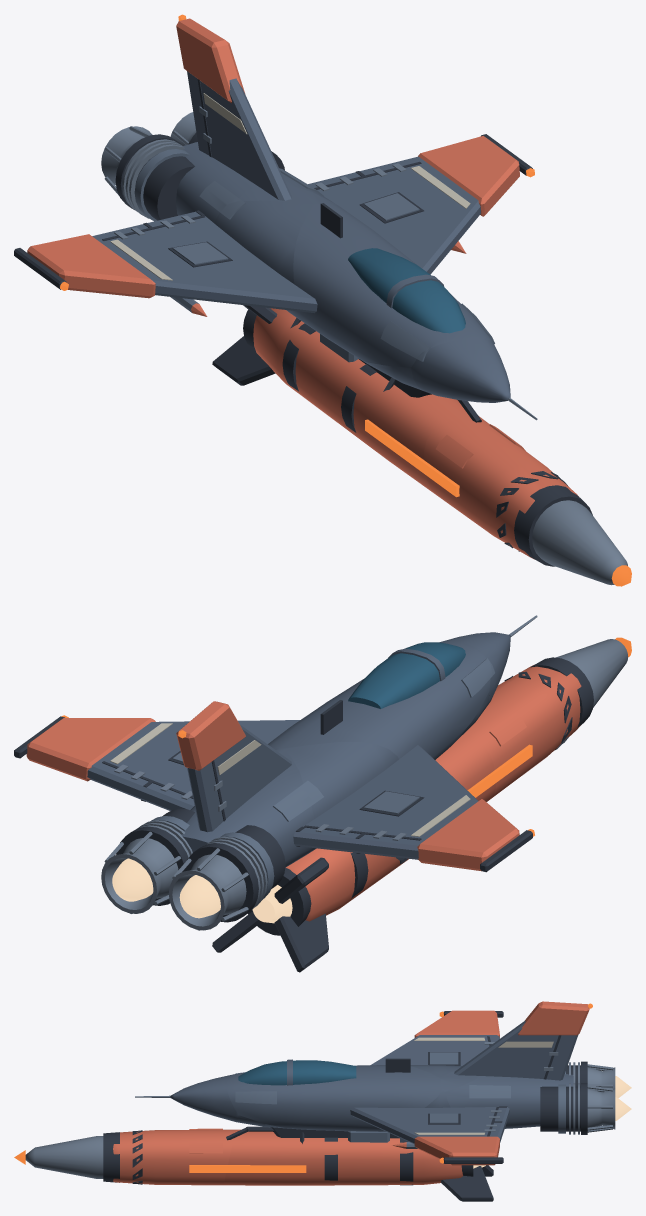
The model's file is lance_bomber_wreck.glb.
3 renders of one model, top to bottom at view 1: azimuth 30°, elevation 25°; view 2: azimuth 150°, elevation 25°; view 3: azimuth 270°, elevation 25°, orthographic. The views are drawn at different scales.
Visible parts, largest first — view 1: lance_bomber_wreck_04, lance_bomber_wreck_00, lance_bomber_wreck_02, lance_bomber_wreck_01, lance_bomber_wreck_03, lance_bomber_wreck_08, lance_bomber_wreck_07, lance_bomber_wreck_06, lance_bomber_wreck_05; view 2: lance_bomber_wreck_01, lance_bomber_wreck_04, lance_bomber_wreck_00, lance_bomber_wreck_02, lance_bomber_wreck_03, lance_bomber_wreck_06, lance_bomber_wreck_07, lance_bomber_wreck_05, lance_bomber_wreck_08; view 3: lance_bomber_wreck_00, lance_bomber_wreck_01, lance_bomber_wreck_02, lance_bomber_wreck_08, lance_bomber_wreck_06, lance_bomber_wreck_07, lance_bomber_wreck_03, lance_bomber_wreck_04, lance_bomber_wreck_05.
Part boxes in pixels (x1=…): lance_bomber_wreck_04: x1=14, y1=200, x2=313, y2=322; lance_bomber_wreck_00: x1=287, y1=203, x2=494, y2=368; lance_bomber_wreck_02: x1=411, y1=338, x2=573, y2=555; lance_bomber_wreck_01: x1=101, y1=112, x2=366, y2=223; lance_bomber_wreck_03: x1=353, y1=134, x2=534, y2=253; lance_bomber_wreck_08: x1=331, y1=353, x2=487, y2=494; lance_bomber_wreck_07: x1=176, y1=14, x2=336, y2=204; lance_bomber_wreck_06: x1=212, y1=204, x2=374, y2=422; lance_bomber_wreck_05: x1=521, y1=488, x2=631, y2=586; lance_bomber_wreck_01: x1=101, y1=776, x2=335, y2=930; lance_bomber_wreck_04: x1=284, y1=742, x2=534, y2=872; lance_bomber_wreck_00: x1=238, y1=640, x2=492, y2=759; lance_bomber_wreck_02: x1=447, y1=615, x2=587, y2=798; lance_bomber_wreck_03: x1=14, y1=715, x2=189, y2=800; lance_bomber_wreck_06: x1=212, y1=848, x2=399, y2=972; lance_bomber_wreck_07: x1=176, y1=701, x2=304, y2=801; lance_bomber_wreck_05: x1=527, y1=637, x2=631, y2=725; lance_bomber_wreck_08: x1=394, y1=692, x2=498, y2=869; lance_bomber_wreck_00: x1=227, y1=1058, x2=442, y2=1141; lance_bomber_wreck_01: x1=445, y1=1056, x2=631, y2=1134; lance_bomber_wreck_02: x1=114, y1=1075, x2=238, y2=1185; lance_bomber_wreck_08: x1=224, y1=1115, x2=353, y2=1185; lance_bomber_wreck_06: x1=353, y1=1090, x2=493, y2=1201; lance_bomber_wreck_07: x1=440, y1=1001, x2=592, y2=1091; lance_bomber_wreck_03: x1=382, y1=1110, x2=503, y2=1165; lance_bomber_wreck_04: x1=370, y1=1010, x2=503, y2=1077; lance_bomber_wreck_05: x1=14, y1=1132, x2=120, y2=1182.
Size of the model in its own units: 3.87 by 2.25 by 6.81.
